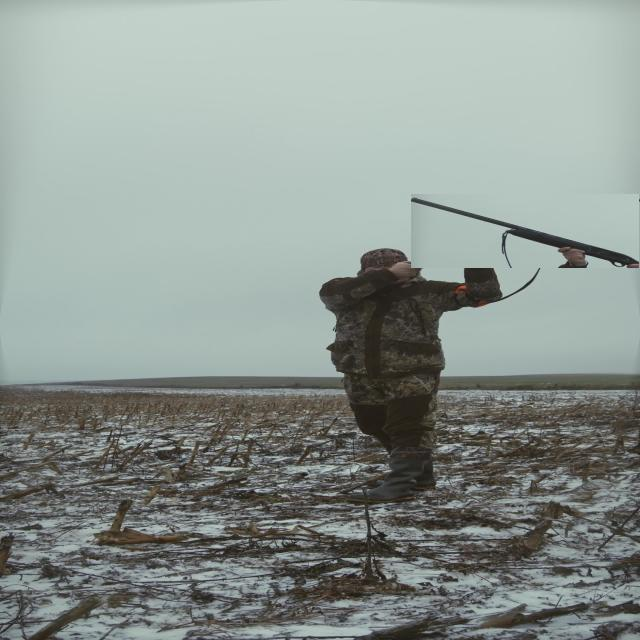poacher: (294, 224, 506, 494)
weapon: (412, 194, 640, 268)
